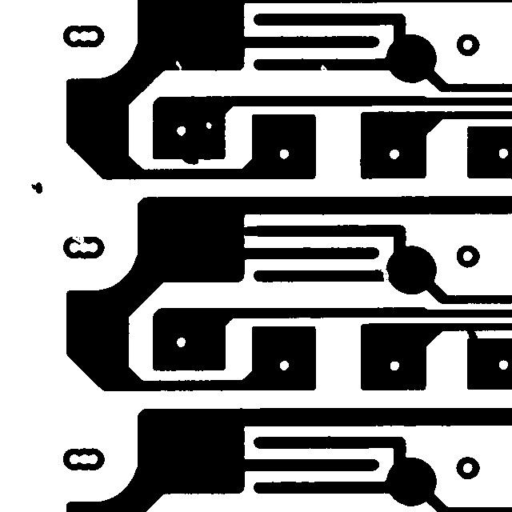copper: (23, 174, 50, 201)
mousebite: (168, 53, 189, 79), (313, 57, 335, 79)
open: (373, 259, 396, 293), (64, 227, 91, 254)
pin-hole: (198, 114, 219, 136)
short: (233, 218, 269, 243), (459, 322, 486, 352)
spur: (174, 148, 206, 172)
